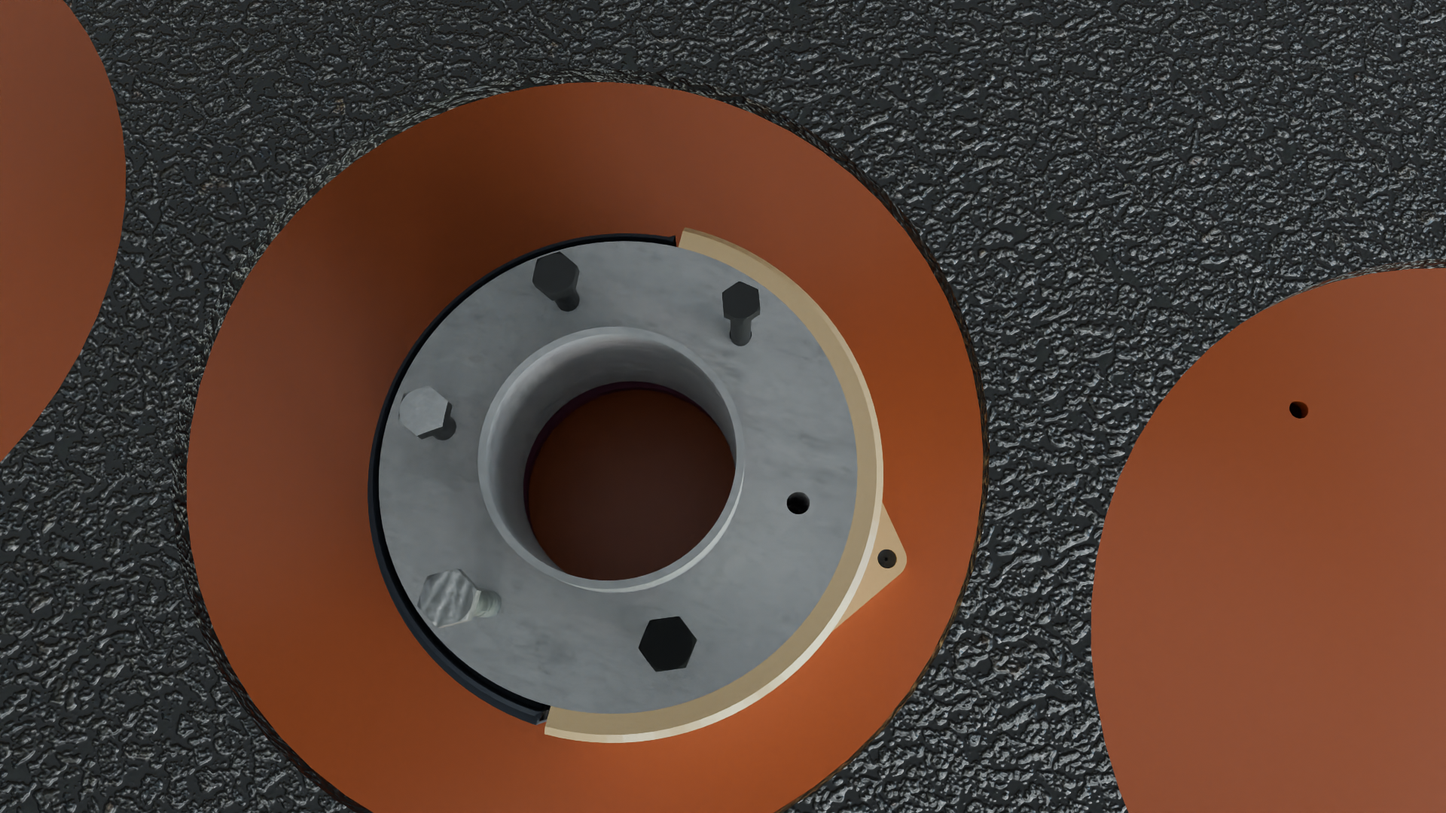bolt: (417, 568, 477, 628), (638, 617, 697, 672), (398, 385, 448, 436), (532, 251, 577, 296), (722, 282, 761, 321)
